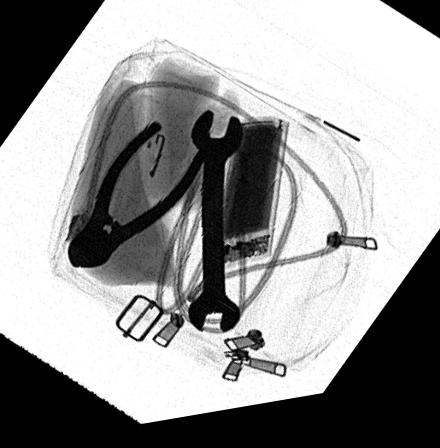Pliers: (66, 123, 210, 269)
Powerbank: (212, 126, 287, 270)
Wrench: (186, 116, 244, 338)
